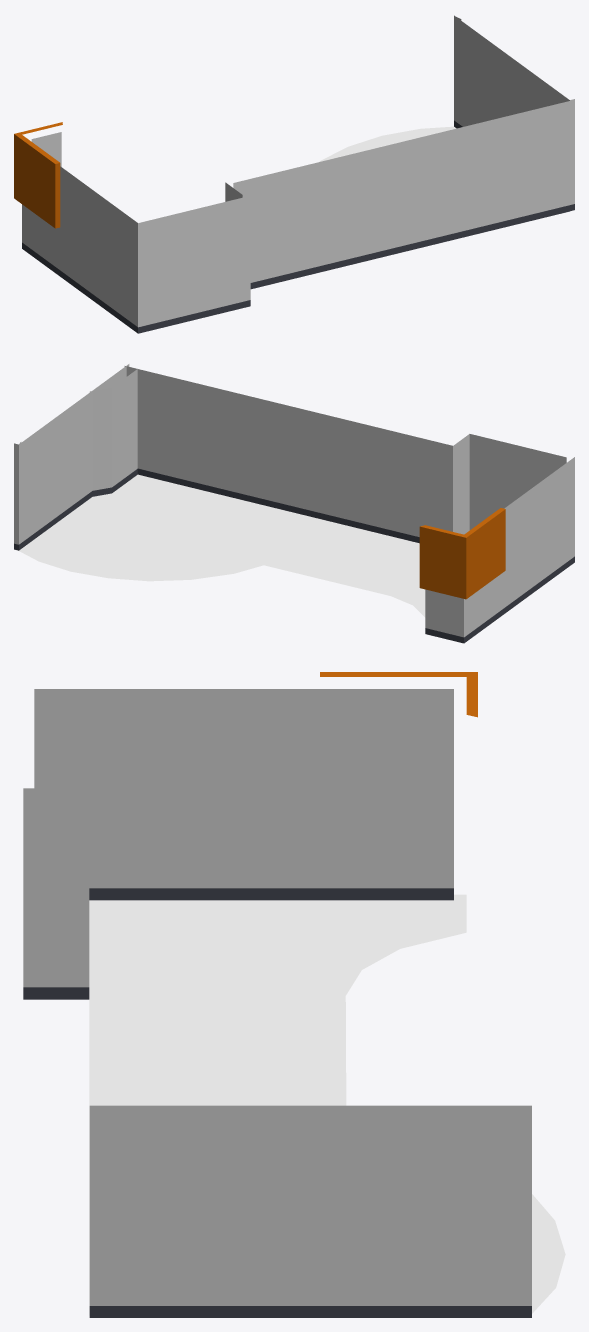
3 renders of one model, top to bottom at view 1: azimuth 30°, elevation 25°; view 2: azimuth 150°, elevation 25°; view 3: azimuth 270°, elevation 25°, orthographic. The views are drawn at different scales.
Visible parts, largest first — view 1: Local_2; view 2: Local_2; view 3: Local_2.
Boxes of the visible parts, bbox=[...] form: Local_2: bbox=[14, 15, 574, 333]; Local_2: bbox=[14, 364, 574, 643]; Local_2: bbox=[23, 672, 565, 1317].
Size of the model in its own units: 0.757 by 0.1796 by 0.4051.
